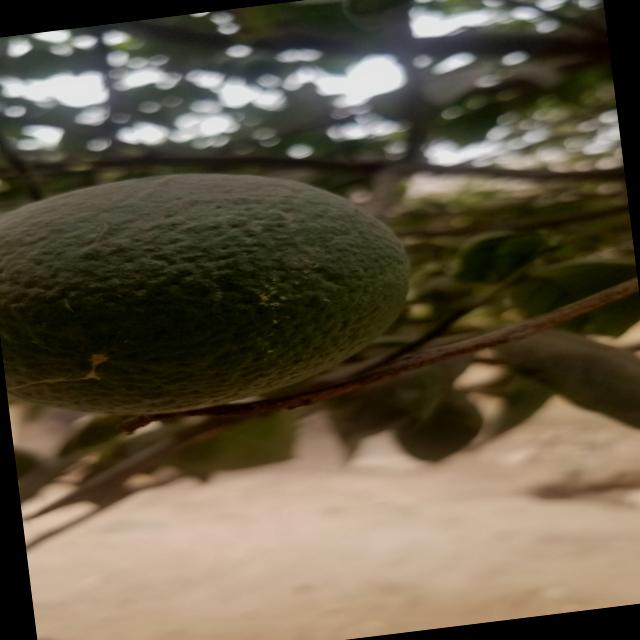Unripe: (0, 151, 413, 432)
